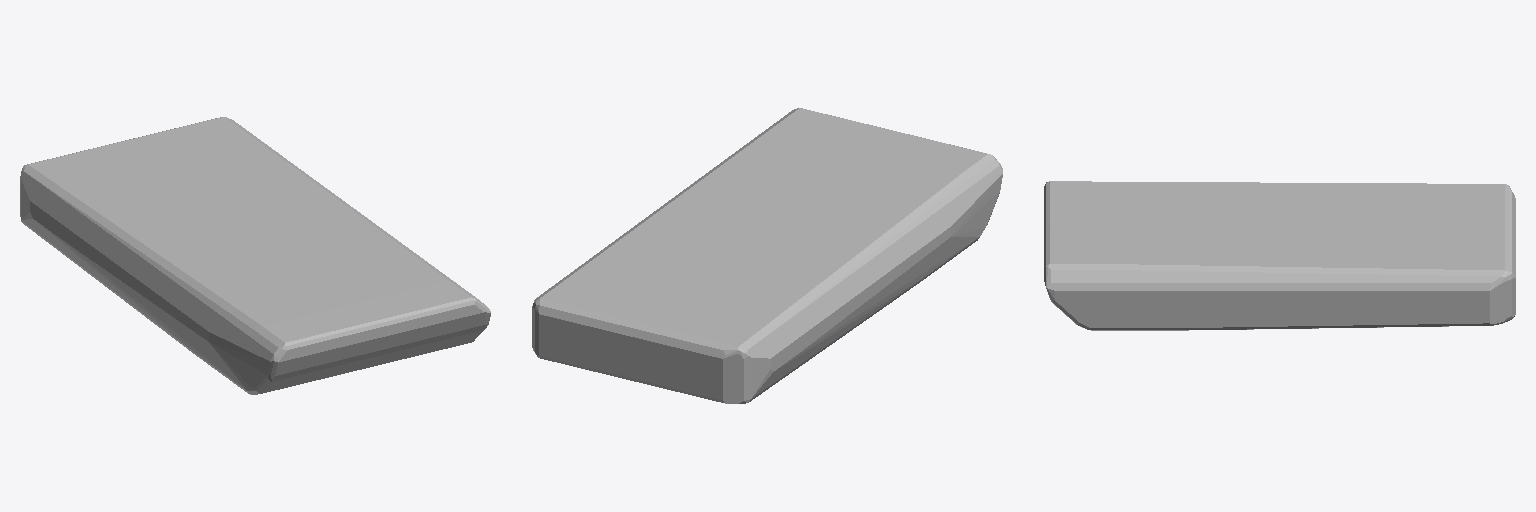
The robot description file, URDF, robot "root":
<robot name="root">
  <link name="link_coacd_convex_piece_0">
    <inertial>
      <origin xyz="0 0 0" rpy="0 0 0"/>
      <inertia ixx="6.80E-02" ixy="8.90E-05" ixz="3.43E-05" iyy="1.81E-02" iyz="3.24E-04" izz="8.36E-02"/>
    </inertial>
    <visual>
      <origin xyz="0 0 0" rpy="0 0 0"/>
      <geometry>
        <mesh filename="coacd_convex_piece_0.obj" scale="1.0000E+00 1.0000E+00 1.0000E+00"/>
      </geometry>
      <material name="">
        <color rgba="7.50E-01 7.50E-01 7.50E-01 1"/>
      </material>
    </visual>
    <collision>
      <origin xyz="0 0 0" rpy="0 0 0"/>
      <geometry>
        <mesh filename="coacd_convex_piece_0.obj" scale="1.0000E+00 1.0000E+00 1.0000E+00"/>
      </geometry>
    </collision>
  </link>
</robot>

--- Render facts (derived) ---
3 views of the same robot in one strip: view 1: azimuth 30°, elevation 25°; view 2: azimuth 150°, elevation 25°; view 3: azimuth 270°, elevation 25° (orthographic).
Robot: root — 1 links, 0 joints (none); root link link_coacd_convex_piece_0; default pose: every joint at zero.
Visible links, largest first — view 1: link_coacd_convex_piece_0; view 2: link_coacd_convex_piece_0; view 3: link_coacd_convex_piece_0.
Boxes of the visible links, x1,y1,x2,y2 form: link_coacd_convex_piece_0: (20, 117, 490, 394); link_coacd_convex_piece_0: (532, 108, 1002, 403); link_coacd_convex_piece_0: (1044, 181, 1515, 330).
Bounding box of the posed robot: 0.8879 × 1.78 × 0.2702 m (x, y, z).
1 mesh visuals loaded from 1 distinct referenced files (1 OBJ).
